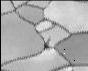good_void: (41, 37, 50, 50)
